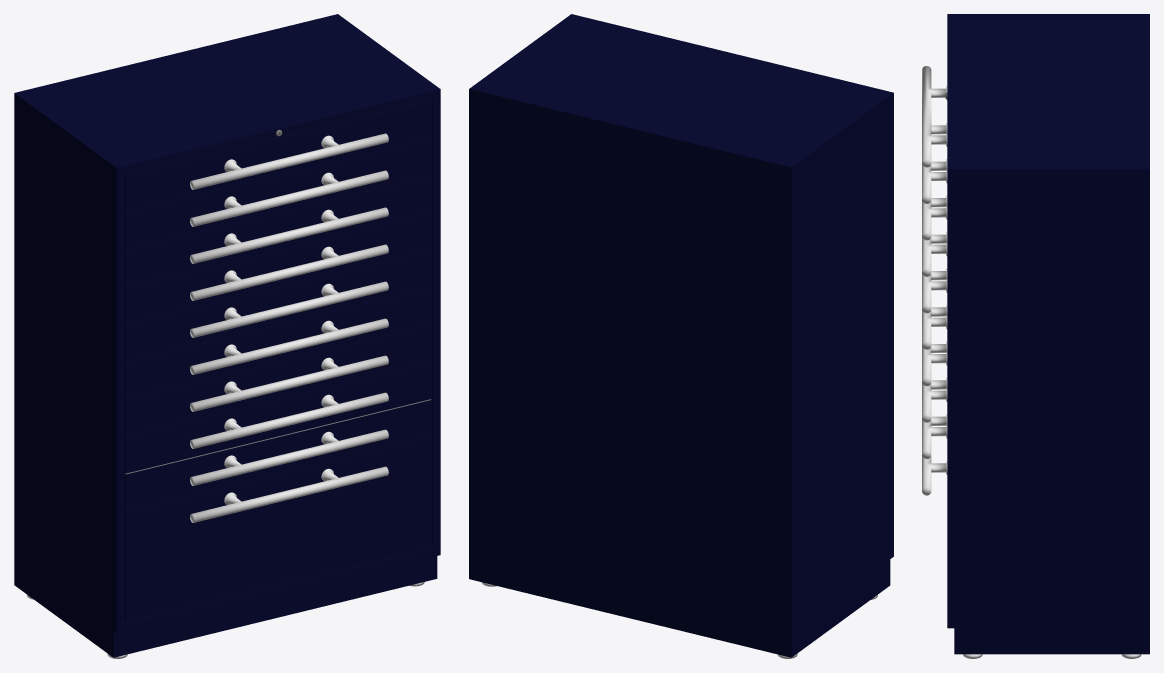
Rendered from drawer10Base40Lux.glb.
The picture shows the model from 3 angles, left to right: view 1: azimuth 30°, elevation 25°; view 2: azimuth 150°, elevation 25°; view 3: azimuth 270°, elevation 25°; orthographic projection.
Parts seen in each view (by area): view 1: drawers, baseDrawerShell, handles; view 2: baseDrawerShell; view 3: baseDrawerShell, handles.
Boxes of the visible parts, left/top/right/bottom form: drawers: left=125, top=100, right=431, bottom=621; baseDrawerShell: left=14, top=14, right=440, bottom=657; handles: left=190, top=133, right=388, bottom=522; baseDrawerShell: left=469, top=14, right=893, bottom=657; baseDrawerShell: left=947, top=14, right=1149, bottom=654; handles: left=922, top=66, right=947, bottom=495.
Bounding box in the file's own units: 1.02 × 1.5 × 0.6287.
